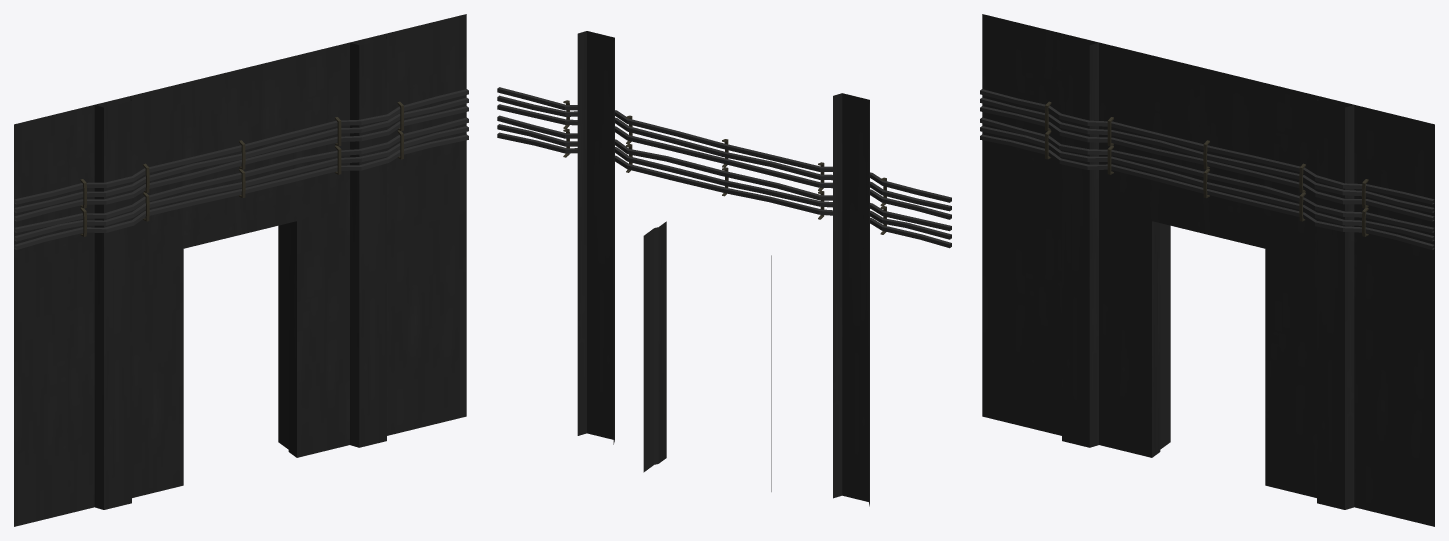
Rendered from SW_ENV_RailTunnelWall_B_03b_05m_FF.fbx.
3 views of the same model, side by side, from view 1: azimuth 30°, elevation 25°; view 2: azimuth 150°, elevation 25°; view 3: azimuth 330°, elevation 25° (orthographic).
Parts seen in each view (by area): view 1: SW_ENV_RailTunnelWall_B_03b_05m_FF; view 2: SW_ENV_RailTunnelWall_B_03b_05m_FF; view 3: SW_ENV_RailTunnelWall_B_03b_05m_FF.
Part boxes in pixels (x1=…): SW_ENV_RailTunnelWall_B_03b_05m_FF: x1=14, y1=14, x2=468, y2=526; SW_ENV_RailTunnelWall_B_03b_05m_FF: x1=497, y1=31, x2=951, y2=506; SW_ENV_RailTunnelWall_B_03b_05m_FF: x1=980, y1=14, x2=1434, y2=526.
Size of the model in its own units: 500 by 425 by 54.88.
